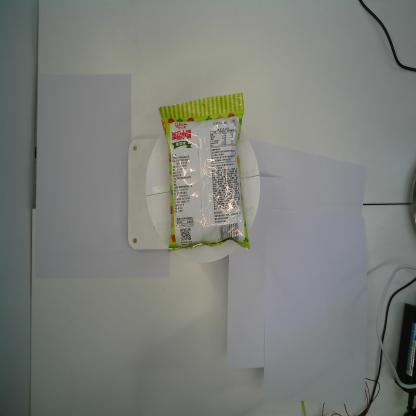Puffed Food: (159, 91, 251, 252)
